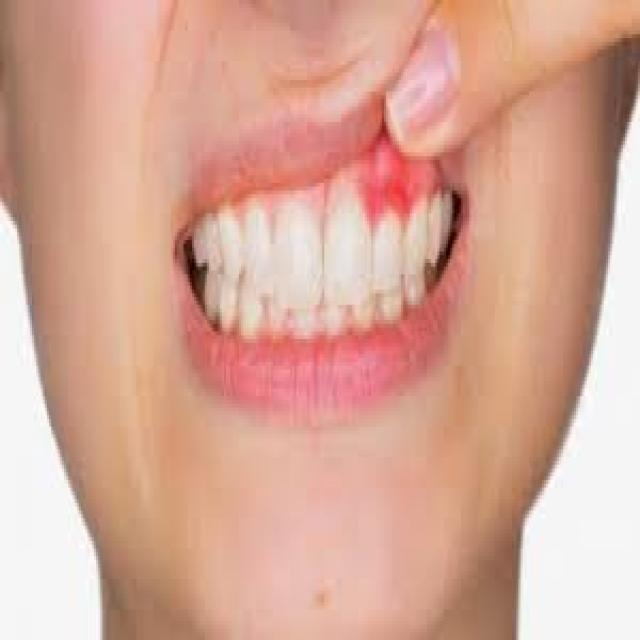tooth: (320, 198, 369, 293), (275, 202, 320, 301), (369, 214, 403, 294), (239, 206, 271, 290), (371, 286, 403, 339), (220, 206, 239, 274), (286, 301, 320, 339), (320, 293, 348, 339), (408, 206, 427, 266), (348, 293, 371, 339), (196, 217, 218, 259), (243, 289, 260, 343), (427, 194, 437, 267), (215, 282, 232, 320), (269, 301, 286, 335), (442, 194, 450, 244)
